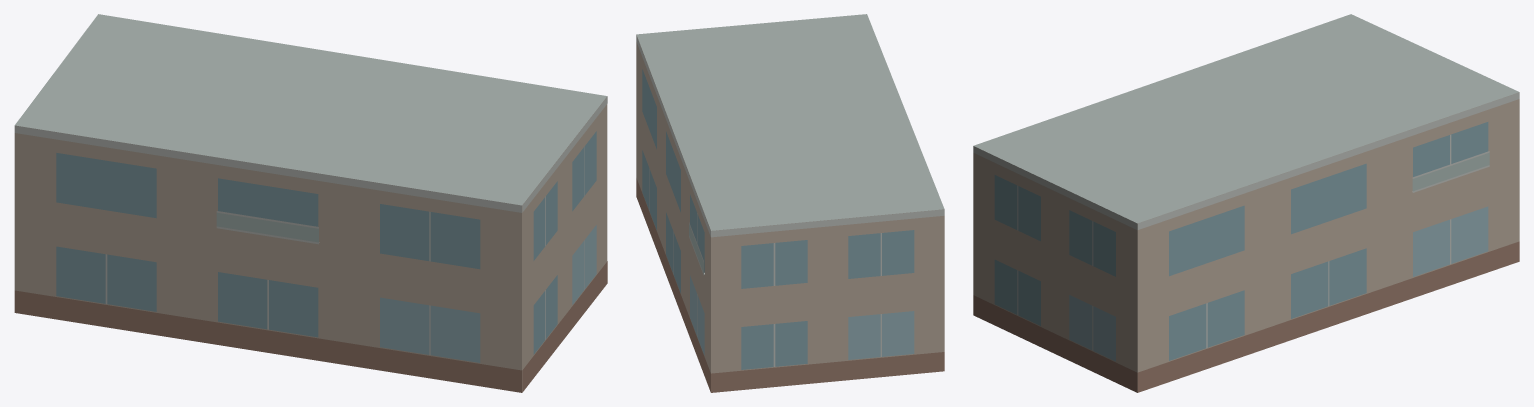
Rendered from survey-upis-32672668.glb.
The picture shows the model from 3 angles, left to right: view 1: azimuth 30°, elevation 25°; view 2: azimuth 150°, elevation 25°; view 3: azimuth 270°, elevation 25°; orthographic projection. The views are drawn at different scales.
Parts seen in each view (by area): view 1: survey-upis-32672668.tmp; view 2: survey-upis-32672668.tmp; view 3: survey-upis-32672668.tmp.
Part boxes in pixels (box(x1,y1,x2,y2)): survey-upis-32672668.tmp: box(14, 14, 607, 392); survey-upis-32672668.tmp: box(636, 14, 944, 392); survey-upis-32672668.tmp: box(973, 14, 1519, 392).
Bounding box in the file's own units: 16.18 × 6.1 × 17.84.
